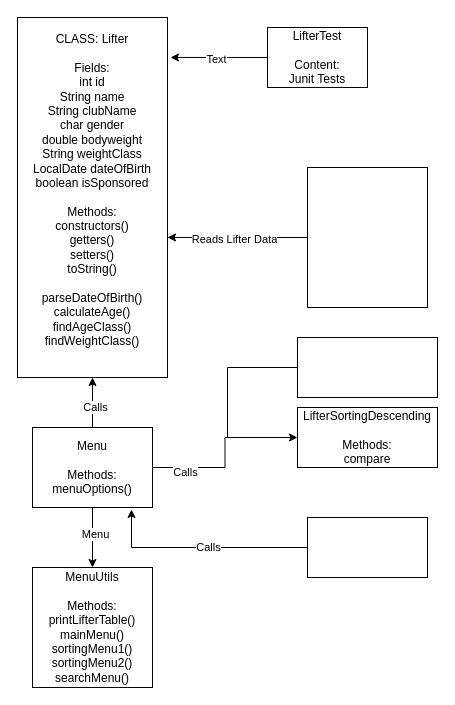
The diagram is 455 pixels wide and 705 high, and some of its shapes have lost their labels. Each missing label, with the centre of its shape:
"FileUtilsLifter Methods: readLiftersData() formatName()" goes at pixel 367 237.
"LifterSortingAscending Methods: compare" goes at pixel 367 367.
"Main Methods: PSVM()" goes at pixel 367 547.
